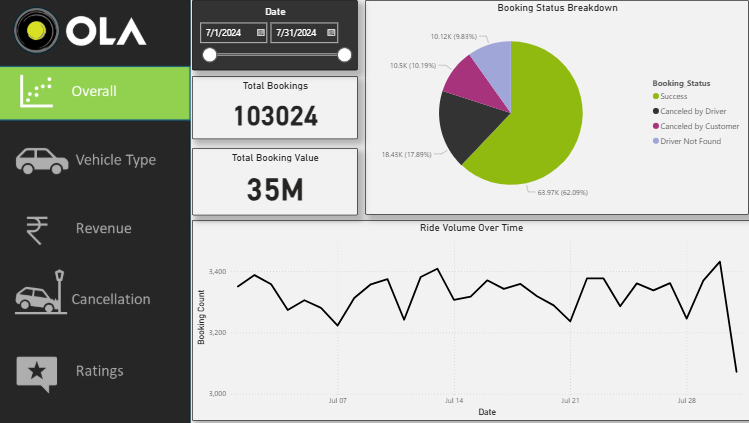

The dashboard page shown, as its layout file describes it:
{"tool":"powerbi","page":{"name":"Overall","canvas":[1280,720],"ordinal":0},"visuals":[{"type":"lineChart","title":"Ride Volume Over Time","fields":{"Y":["CountNonNull(July (3).Booking_ID)"],"Category":["July (3).Date"]},"box":[327,368.3,936.5,336.5],"z":0},{"type":"pieChart","title":"Booking Status Breakdown","fields":{"Category":["July (3).Booking_Status"],"Y":["CountNonNull(July (3).Booking_ID)"]},"box":[617.5,0,644.4,360.3],"z":1000},{"type":"slicer","title":"Date","fields":{"Values":["July (3).Date"]},"box":[327.4,0,277.8,117.6],"z":2000},{"type":"cardVisual","title":"Total Bookings","fields":{"Data":["CountNonNull(July (3).Booking_ID)"]},"box":[327,127,277.8,106.3],"z":3000},{"type":"cardVisual","title":"Total Booking Value","fields":{"Data":["Sum(July (3).Booking_Value)"]},"box":[327,247.6,277.8,112.7],"z":4000},{"type":"actionButton","box":[0,222.2,327,93.7],"z":5000},{"type":"actionButton","box":[0,338.1,327,93.7],"z":6000},{"type":"actionButton","box":[0,338.1,327,93.7],"z":7000},{"type":"actionButton","box":[0,442.9,327,93.7],"z":8000},{"type":"actionButton","box":[0,577.8,327,93.7],"z":9000},{"type":"actionButton","box":[10,587.8,327,93.7],"z":10000},{"type":"actionButton","box":[0,109.5,327,93.7],"z":11000}]}

Visuals, with their boxes in screenshot pixels (x1, y1, x2, y2), scaled from the page's 1280x720 canvas onto the 749x423 screenshot:
"Ride Volume Over Time" lineChart: locate(191, 216, 739, 414)
"Booking Status Breakdown" pieChart: locate(361, 0, 738, 212)
"Date" slicer: locate(192, 0, 354, 69)
"Total Bookings" cardVisual: locate(191, 75, 354, 137)
"Total Booking Value" cardVisual: locate(191, 145, 354, 212)
actionButton: locate(0, 131, 191, 186)
actionButton: locate(0, 199, 191, 254)
actionButton: locate(0, 199, 191, 254)
actionButton: locate(0, 260, 191, 315)
actionButton: locate(0, 339, 191, 395)
actionButton: locate(6, 345, 197, 400)
actionButton: locate(0, 64, 191, 119)
